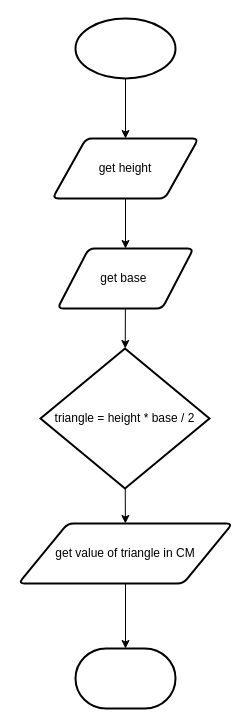
Image size: 250x726. Some labels were removed from this diagram. The centre of each missing label's shape, as x and y in pixels:
"Start" belongs at point 125,48.
"stop" belongs at point 125,678.
